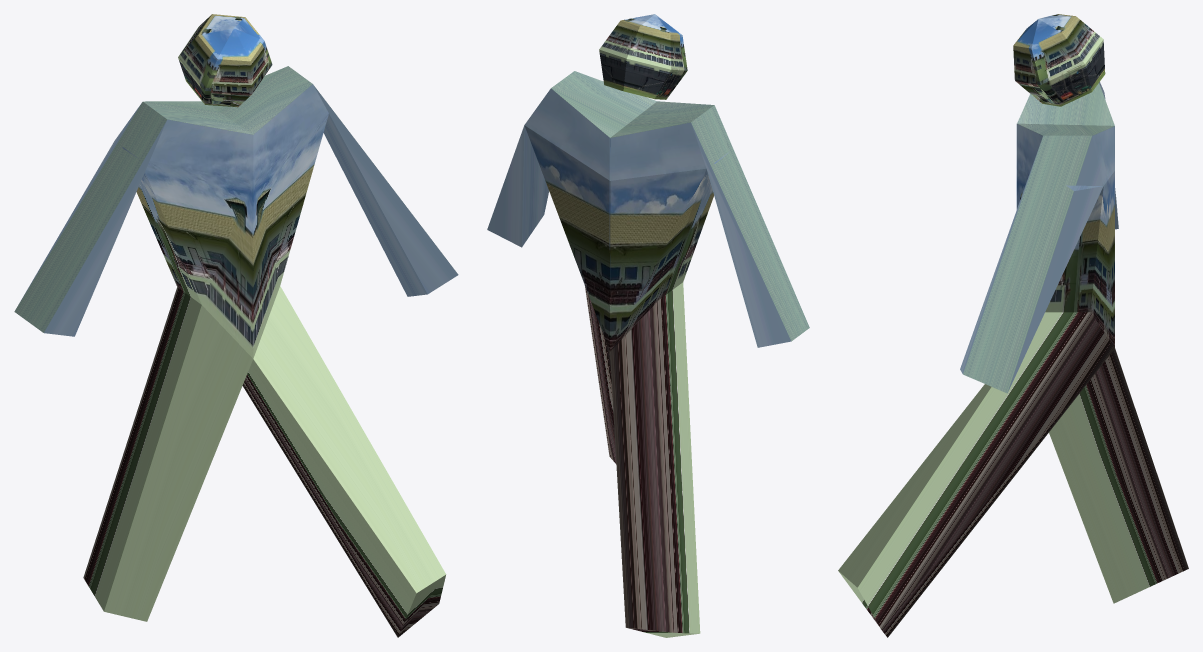
File: guy_object.obj
The picture shows the model from 3 angles, left to right: view 1: azimuth 30°, elevation 25°; view 2: azimuth 150°, elevation 25°; view 3: azimuth 270°, elevation 25°; orthographic projection. The views are drawn at different scales.
Parts seen in each view (by area): view 1: Cylinder; view 2: Cylinder; view 3: Cylinder.
Boxes of the visible parts, x1,y1,x2,y2 form: Cylinder: (14,14,458,637); Cylinder: (487,14,809,637); Cylinder: (838,14,1188,637).
Size of the model in its own units: 8.71 by 13.7 by 7.14.
